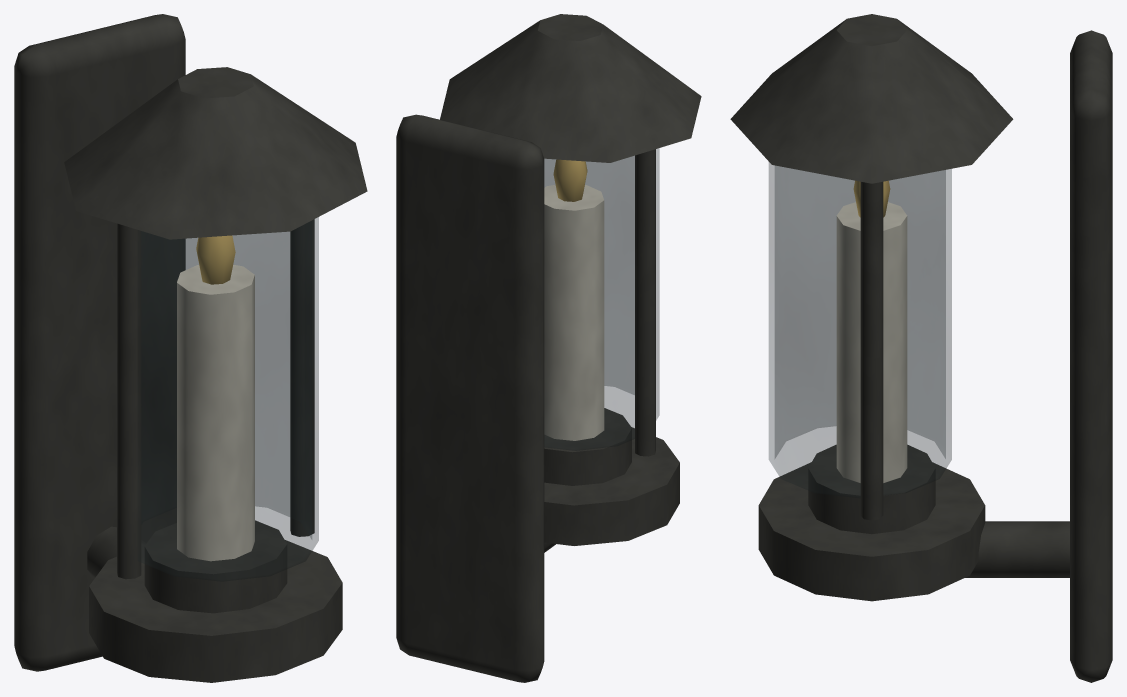
File: Furn_Sconce.fbx
The picture shows the model from 3 angles, left to right: view 1: azimuth 30°, elevation 25°; view 2: azimuth 150°, elevation 25°; view 3: azimuth 270°, elevation 25°; orthographic projection. The views are drawn at different scales.
Visible parts, largest first — view 1: Furn_Sconce_Mesh; view 2: Furn_Sconce_Mesh; view 3: Furn_Sconce_Mesh.
Part boxes in pixels (bbox=[...]): Furn_Sconce_Mesh: bbox=[14, 14, 367, 682]; Furn_Sconce_Mesh: bbox=[396, 14, 701, 682]; Furn_Sconce_Mesh: bbox=[730, 14, 1112, 682].
Size of the model in its own units: 0.2 by 0.45 by 0.25.
Materials: 4 (4 with a texture image).
